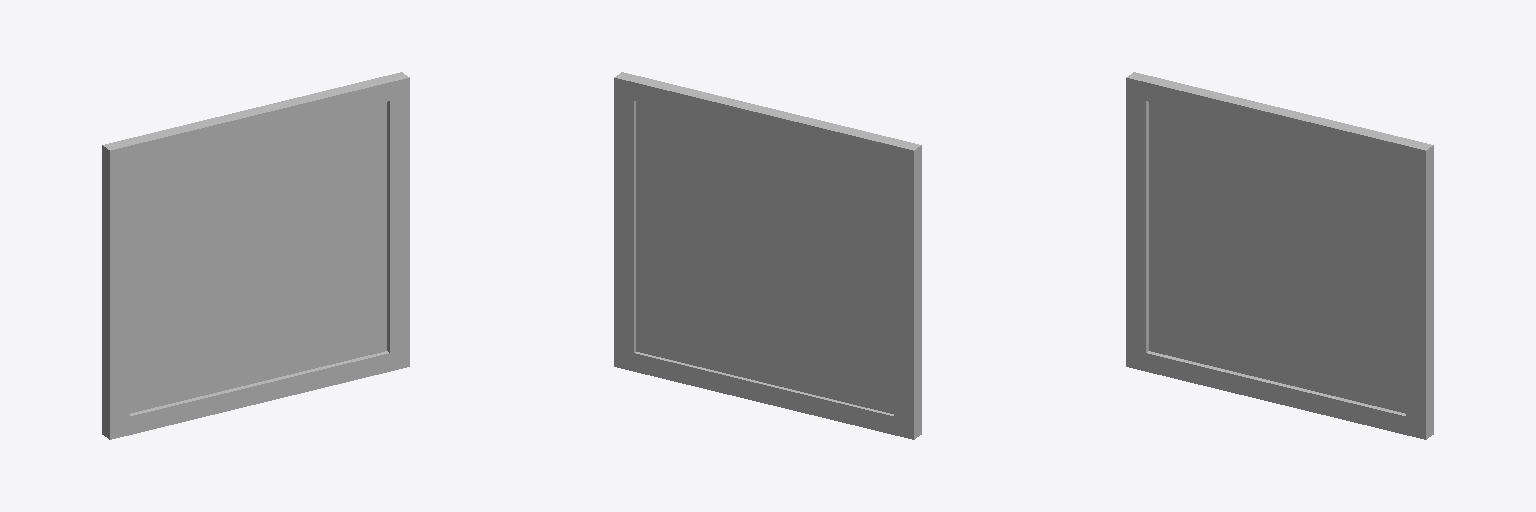
Rendered from Building_Window_LOD0.obj.
3 views of the same model, side by side, from view 1: azimuth 30°, elevation 25°; view 2: azimuth 150°, elevation 25°; view 3: azimuth 330°, elevation 25° (orthographic).
Visible parts, largest first — view 1: Building_Window_LOD0 Building_Window; view 2: Building_Window_LOD0 Building_Window; view 3: Building_Window_LOD0 Building_Window.
Part boxes in pixels (x1,y1,x2,y2): Building_Window_LOD0 Building_Window: (102,72,409,439); Building_Window_LOD0 Building_Window: (614,72,921,439); Building_Window_LOD0 Building_Window: (1126,72,1433,439).
Size of the model in its own units: 95.2 by 87.84 by 4.19.